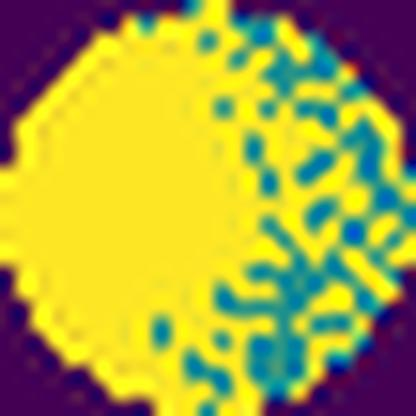Edge-Ring: (0, 0, 261, 416)
